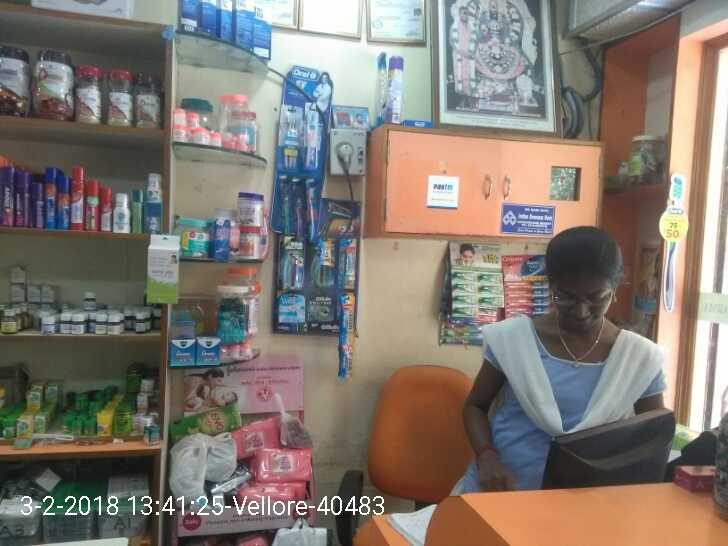beauty: (336, 238, 363, 382), (276, 240, 307, 294), (309, 238, 336, 290), (272, 292, 308, 326)
pharmacy: (278, 102, 299, 171), (298, 178, 317, 238), (306, 102, 320, 172), (275, 175, 290, 239)
